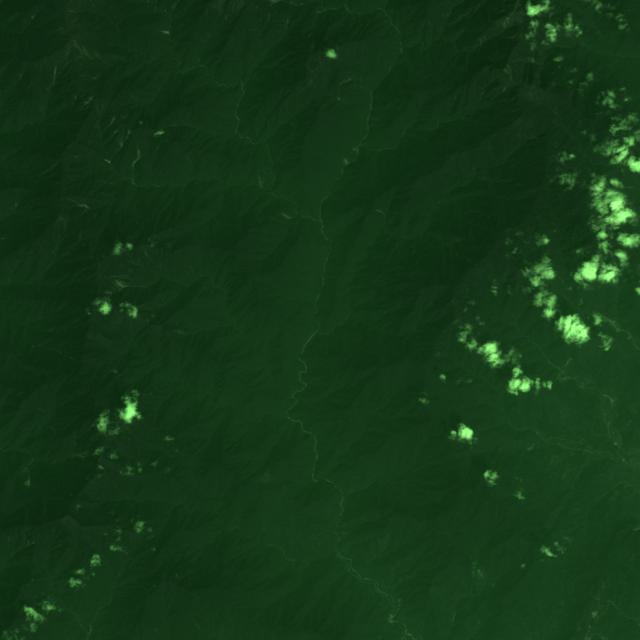landslides: (130, 149, 141, 185), (191, 616, 206, 636), (66, 197, 89, 209), (20, 459, 34, 474), (103, 117, 115, 133), (354, 85, 372, 95), (112, 280, 127, 291), (328, 505, 341, 517), (505, 66, 514, 83), (59, 215, 67, 233), (339, 78, 359, 85), (145, 251, 155, 265), (20, 36, 29, 50), (149, 385, 159, 397), (112, 275, 131, 281), (257, 173, 264, 189), (47, 426, 57, 437), (27, 601, 37, 612), (33, 602, 42, 614)
